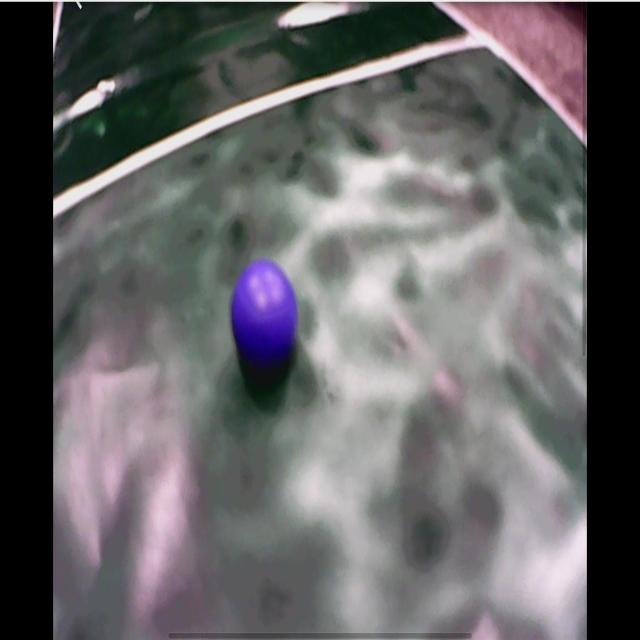ball: (235, 262, 297, 361)
